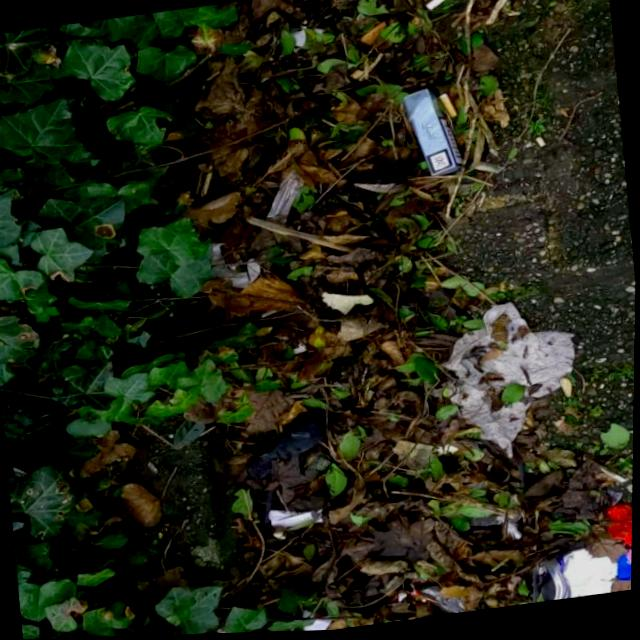Can-Metal: (535, 538, 634, 605)
Paper: (432, 294, 590, 469), (399, 83, 467, 182)
